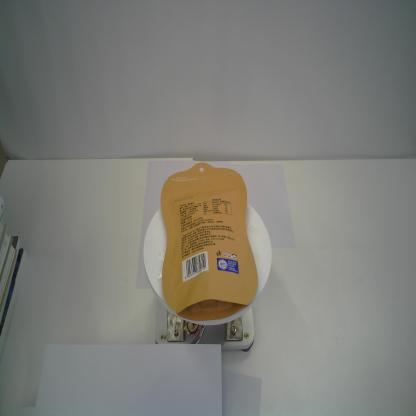Dried Fruit: (161, 162, 258, 320)
